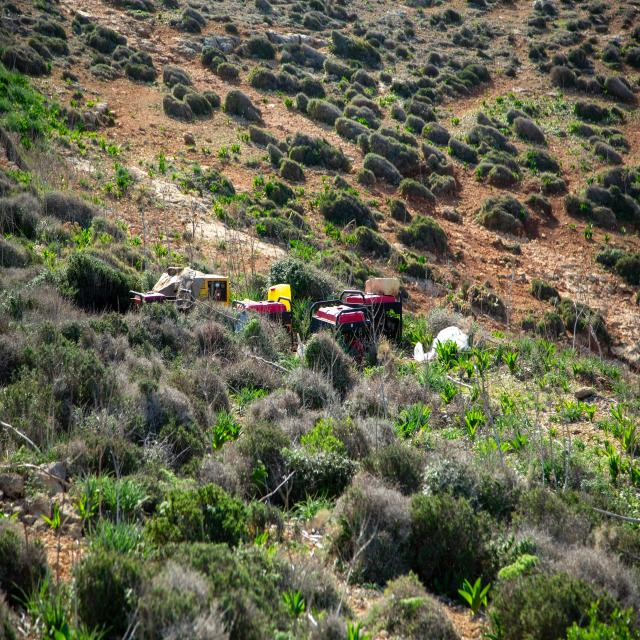Other plastic: (412, 325, 475, 364), (268, 283, 291, 311)
